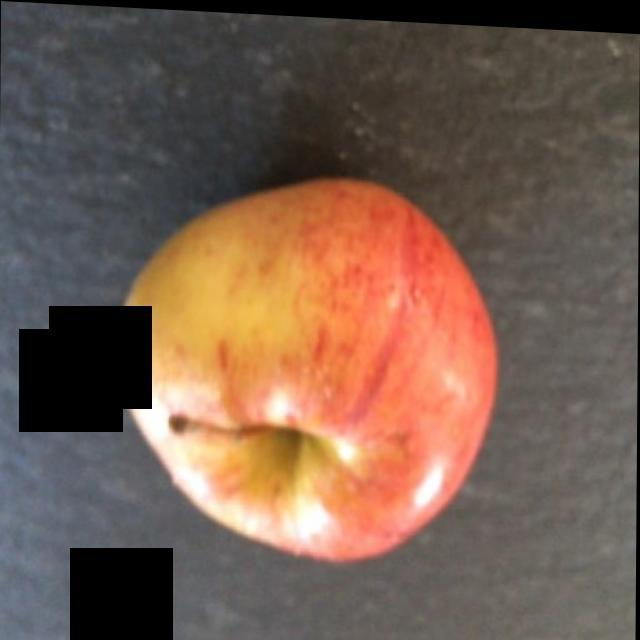apple: (120, 177, 491, 548)
